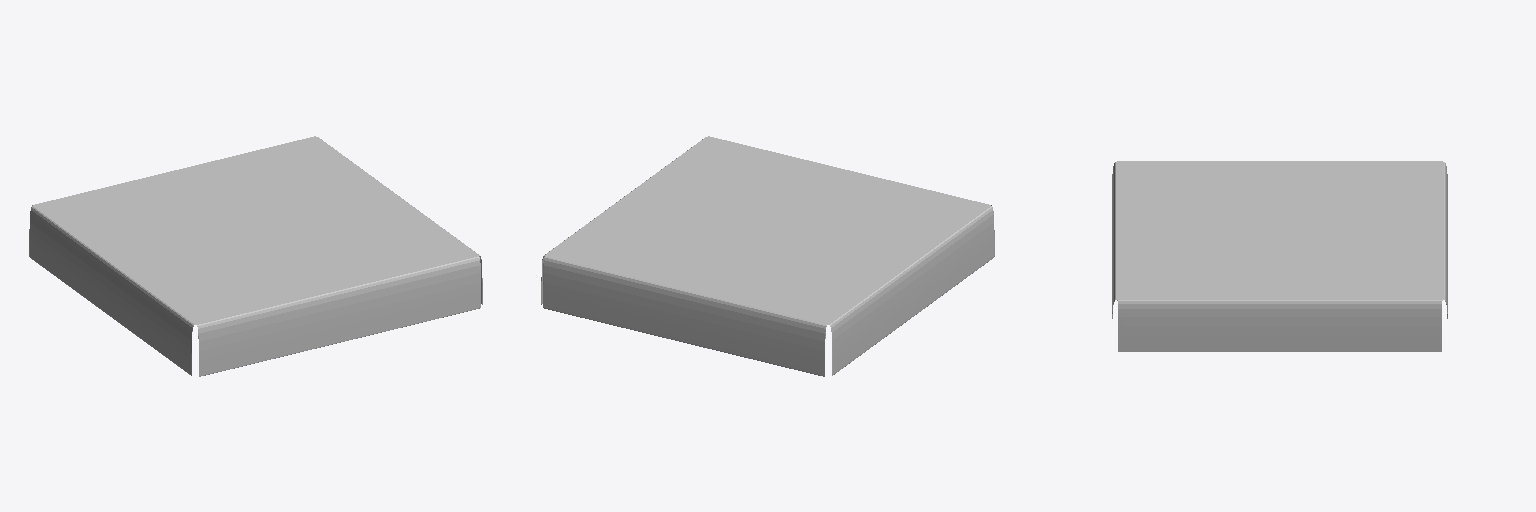
File: boxingringbottom.obj
3 renders of one model, left to right at view 1: azimuth 30°, elevation 25°; view 2: azimuth 150°, elevation 25°; view 3: azimuth 270°, elevation 25°, orthographic.
Visible parts, largest first — view 1: 10494_Regulation_Boxing_Ring_SG_V1_Max2011_it2; view 2: 10494_Regulation_Boxing_Ring_SG_V1_Max2011_it2; view 3: 10494_Regulation_Boxing_Ring_SG_V1_Max2011_it2.
Boxes of the visible parts, box(x1,y1,x2,y2) form: 10494_Regulation_Boxing_Ring_SG_V1_Max2011_it2: box(29, 136, 482, 376); 10494_Regulation_Boxing_Ring_SG_V1_Max2011_it2: box(541, 136, 994, 376); 10494_Regulation_Boxing_Ring_SG_V1_Max2011_it2: box(1112, 161, 1447, 351).
Size of the model in its own units: 8.02 by 1.33 by 8.02.